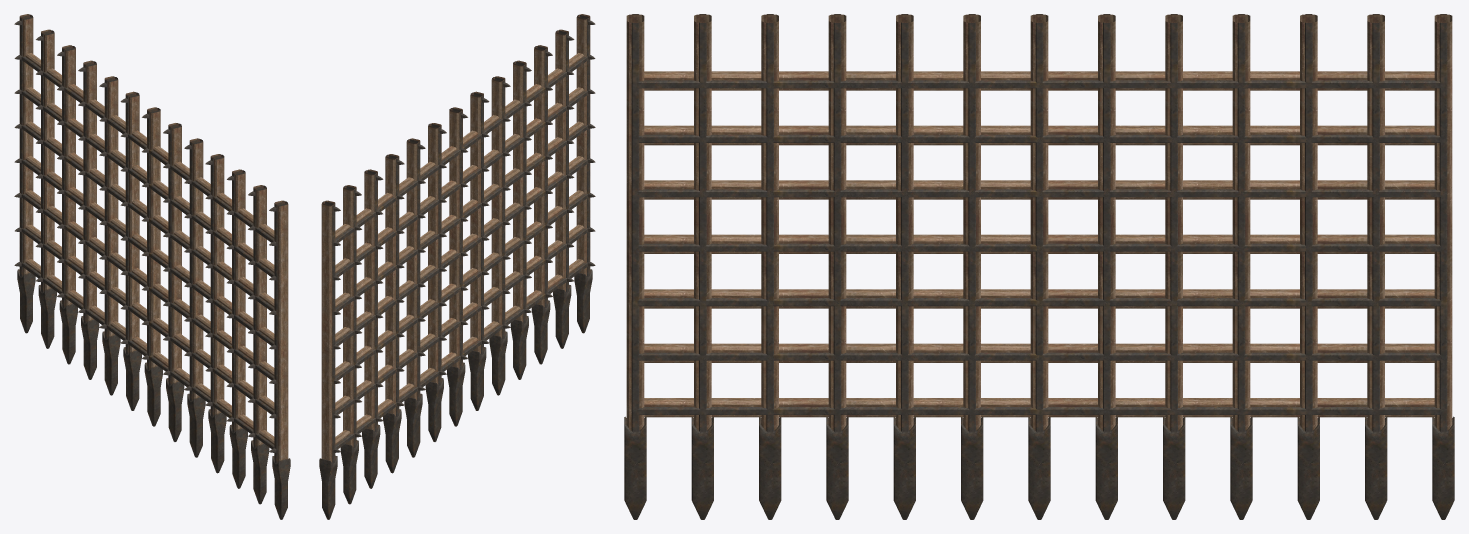
The picture shows the model from 3 angles, left to right: view 1: azimuth 30°, elevation 25°; view 2: azimuth 150°, elevation 25°; view 3: azimuth 270°, elevation 25°; orthographic projection. The views are drawn at different scales.
Parts seen in each view (by area): view 1: SM_DR_Gateway_Gate_01_LOD0; view 2: SM_DR_Gateway_Gate_01_LOD0; view 3: SM_DR_Gateway_Gate_01_LOD0.
Part boxes in pixels (left/top/right/bottom): SM_DR_Gateway_Gate_01_LOD0: left=14, top=14, right=290, bottom=519; SM_DR_Gateway_Gate_01_LOD0: left=319, top=14, right=595, bottom=519; SM_DR_Gateway_Gate_01_LOD0: left=624, top=14, right=1454, bottom=519.
Size of the model in its own units: 0.3268 by 5.42 by 8.14.
2 materials, 2 textured.
